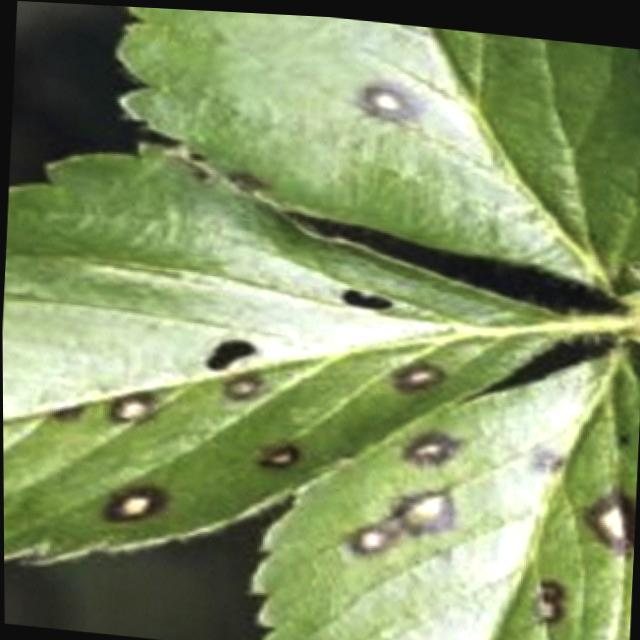Leaf Spot: (2, 135, 577, 569), (111, 5, 640, 292), (247, 335, 640, 640)
